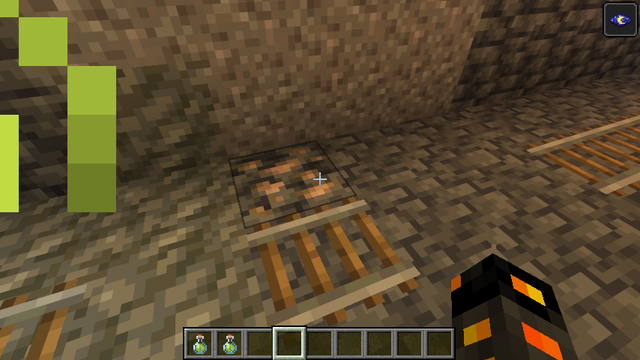iron: (227, 140, 355, 222)
